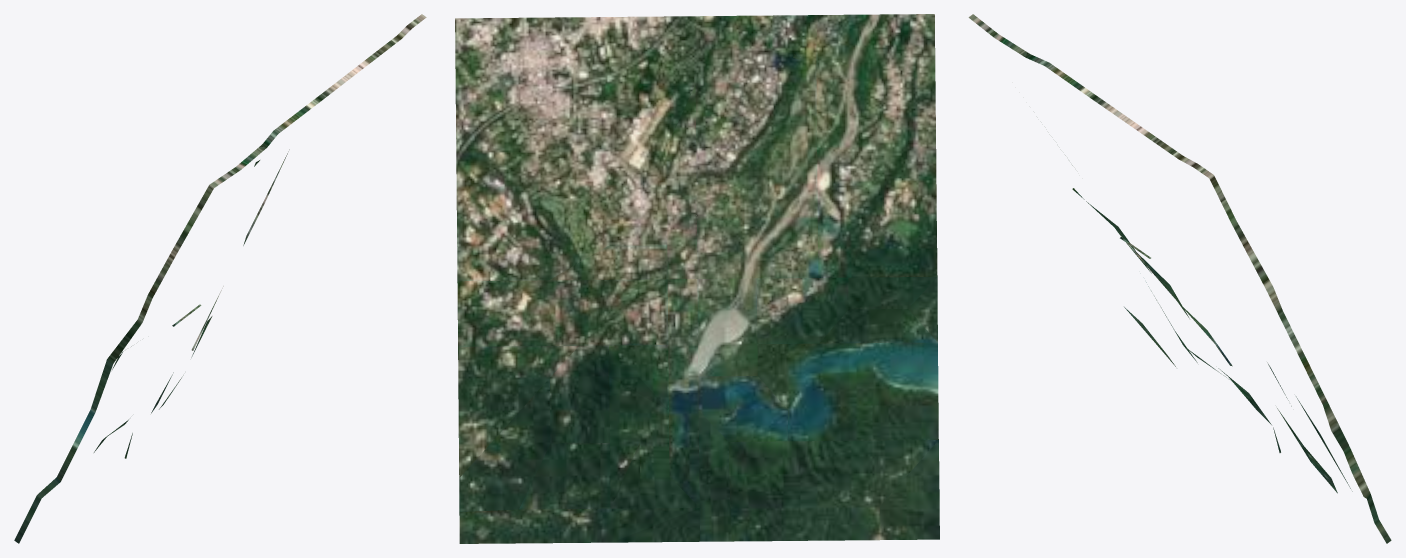
The picture shows the model from 3 angles, left to right: view 1: azimuth 30°, elevation 25°; view 2: azimuth 150°, elevation 25°; view 3: azimuth 270°, elevation 25°; orthographic projection. The views are drawn at different scales.
Size of the model in its own units: 9899 by 8928 by 8284.
1 material, 1 textured.
